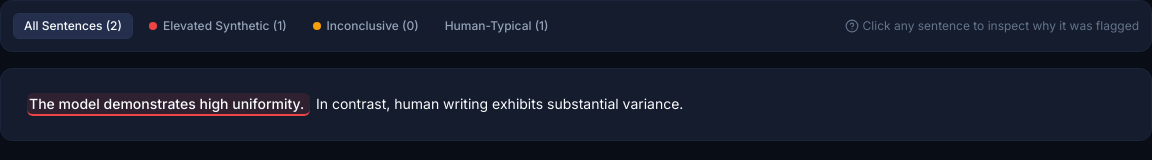
it: SentenceHeatmap component › filters sentences by category
Click the tab "Elevated Synthetic (1)": point(218, 26) [139,14,297,38]
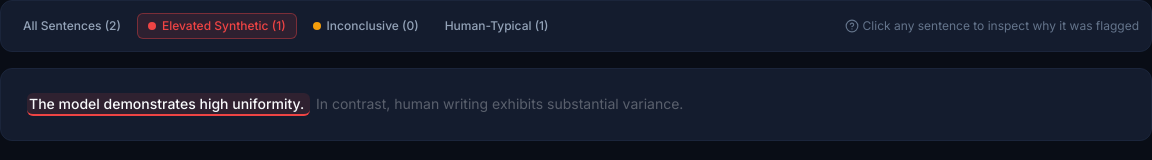
expect the tab "Elevated Synthetic (1)" is selected: met, box [137,13,297,39]
